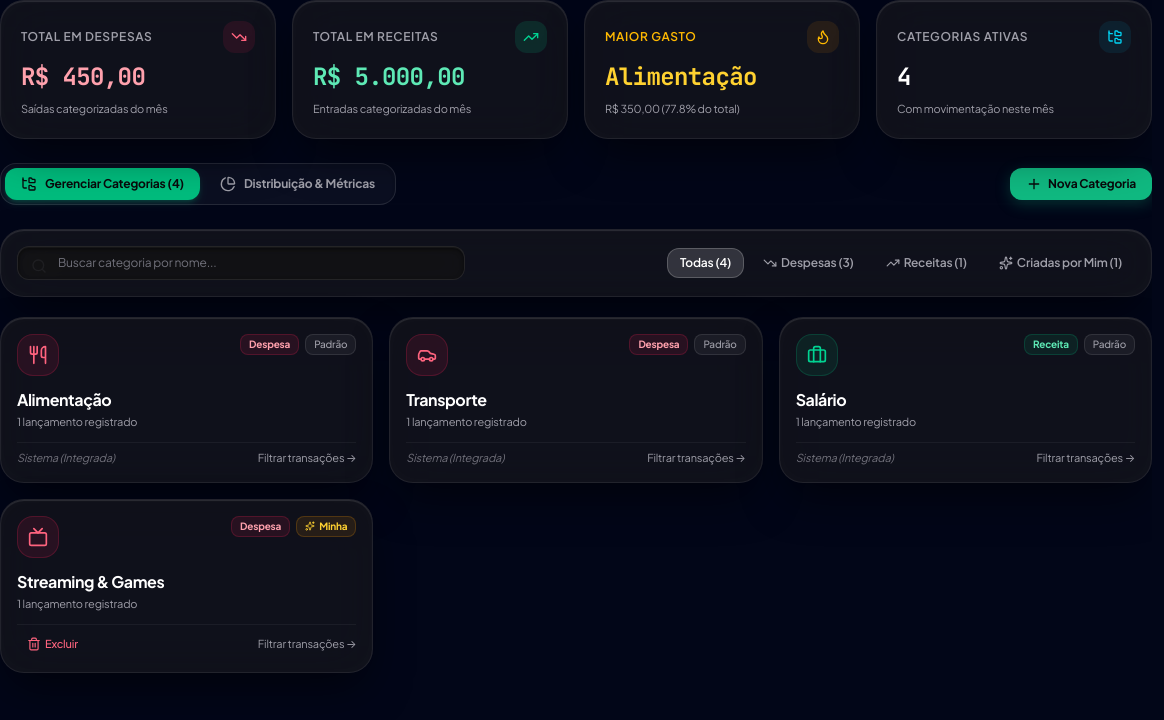
Test: <CategoriesView /> (Gerenciador e Análise de Categorias) › deve filtrar as categorias através do campo de busca
Type "Streaming" into the field with test id "input-search-categories". click: (241, 262)
box: 17,246 -> 465,280
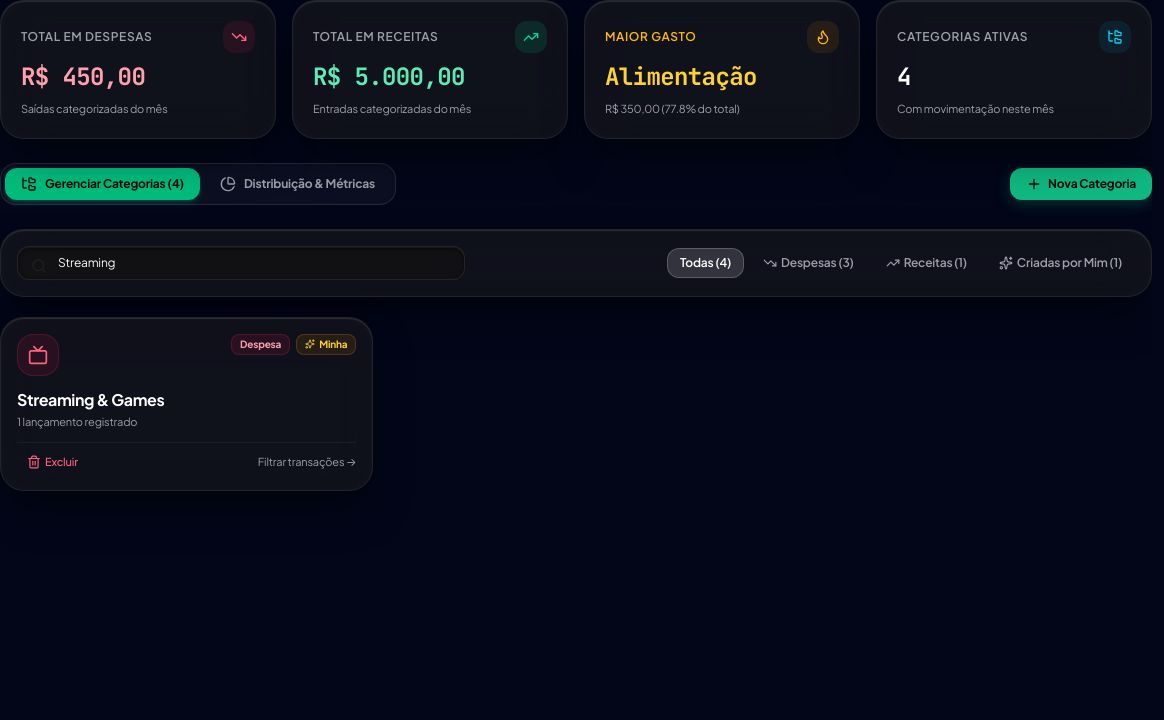
Check: the element with test id "category-card-custom-cat-1" is shown, box 0,316 -> 373,491
Check: the element with test id "category-card-default-expense-alimentacao" is gone
Check: the element with test id "category-card-default-expense-transporte" is gone
